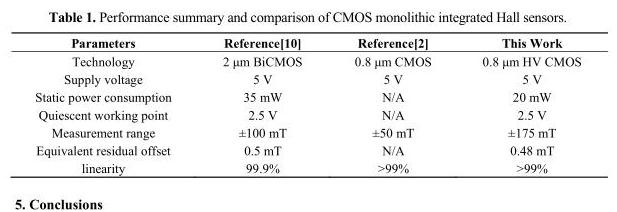table: (34, 35, 580, 174)
table column: (34, 35, 196, 174), (196, 35, 327, 174), (327, 35, 456, 174), (456, 35, 580, 174)
table column header: (34, 35, 580, 51)
table row: (34, 51, 580, 69), (34, 69, 580, 87), (34, 87, 580, 105), (34, 105, 580, 123), (34, 140, 580, 158), (34, 123, 580, 140), (34, 35, 580, 51), (34, 158, 580, 174)
